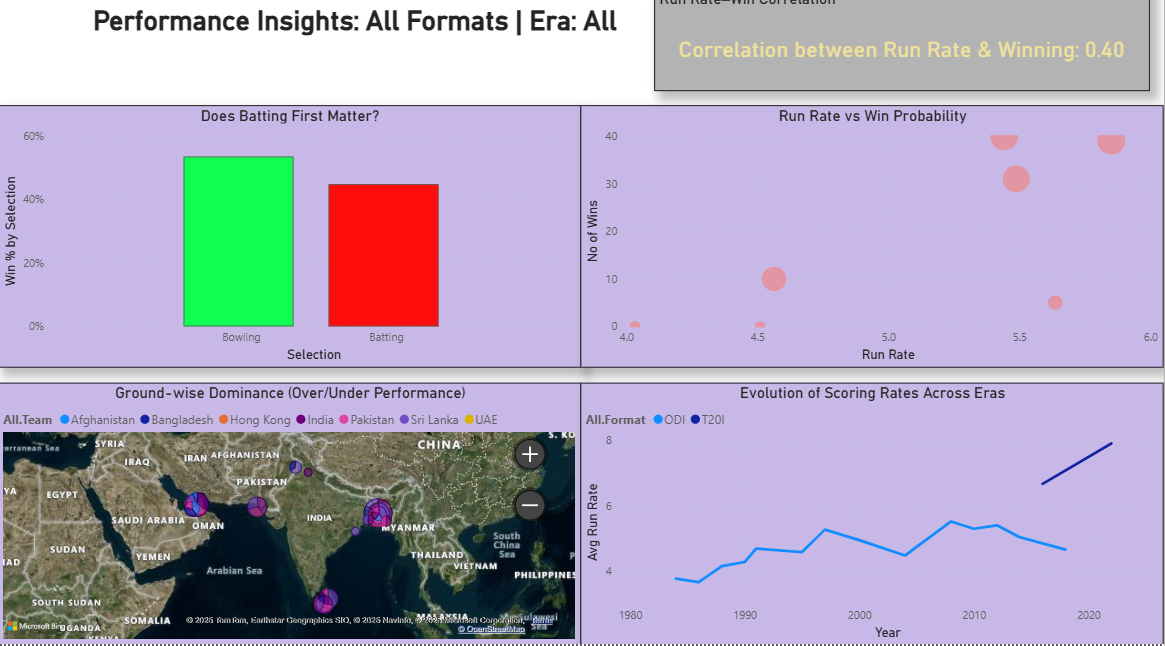

What the dashboard file says about the page in this screenshot:
{"tool":"powerbi","page":{"name":"Insights Lab","canvas":[1280,720],"ordinal":3},"visuals":[{"type":"clusteredColumnChart","title":"Does Batting First Matter?","fields":{"Category":["MatchesLong.All.Selection"],"Y":["MatchesLong.Win % by Selection"]},"box":[0,128,640,288],"z":0},{"type":"scatterChart","title":"Run Rate vs Win Probability","fields":{"X":["Avg(MatchesLong.All.Run Rate)"],"Y":["Sum(MatchesLong.All.IsWin)"],"Category":["MatchesLong.All.Team"],"Size":["Sum(MatchesLong.All.Run Scored)"]},"box":[640,128,640,288],"z":1000},{"type":"map","title":"Ground-wise Dominance (Over/Under Performance)","fields":{"Size":["MatchesLong.Wins"],"Category":["MatchesLong.All.Ground"],"Series":["MatchesLong.All.Team"]},"box":[0,432,640,288],"z":2000},{"type":"lineChart","title":"Evolution of Scoring Rates Across Eras","fields":{"Category":["MatchesLong.All.Year"],"Y":["MatchesLong.Avg Run Rate"],"Series":["MatchesLong.All.Format"]},"box":[640,432,640,288],"z":3000},{"type":"textbox","box":[0,16,784,64],"z":4000},{"type":"card","title":"Run Rate–Win Correlation","fields":{"Values":["MatchesLong.RunRate-Win Corr (label)"]},"box":[720,0,544,112],"z":5000}]}

Visuals, with their boxes in screenshot pixels (x1, y1, x2, y2), scaled from the page's 1280x720 canvas onto the 1165x646 screenshot:
"Does Batting First Matter?" clusteredColumnChart: locate(0, 115, 582, 373)
"Run Rate vs Win Probability" scatterChart: locate(582, 115, 1164, 373)
"Ground-wise Dominance (Over/Under Performance)" map: locate(0, 388, 582, 645)
"Evolution of Scoring Rates Across Eras" lineChart: locate(582, 388, 1164, 645)
textbox: locate(0, 14, 714, 72)
"Run Rate–Win Correlation" card: locate(655, 0, 1150, 100)
